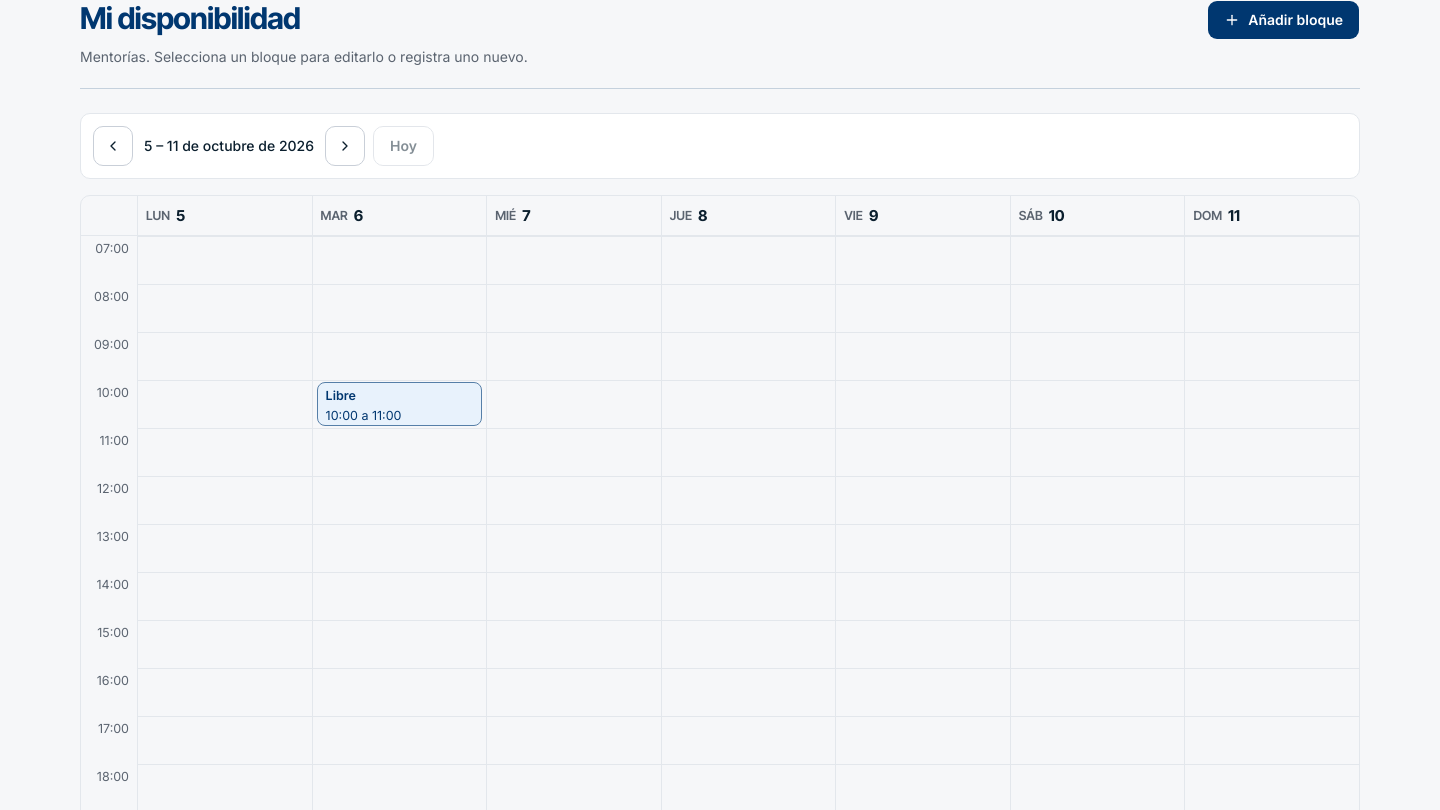
Test: MentorAvailabilityView › abre el panel de edición con la grilla al hacer clic en un bloque libre
What coordinates should you click on to do the following:
click the button with aria-label "libre, 10:00 a 11:00"
I would click on:
 (399, 404)
Its box is x1=317 y1=382 x2=482 y2=426.
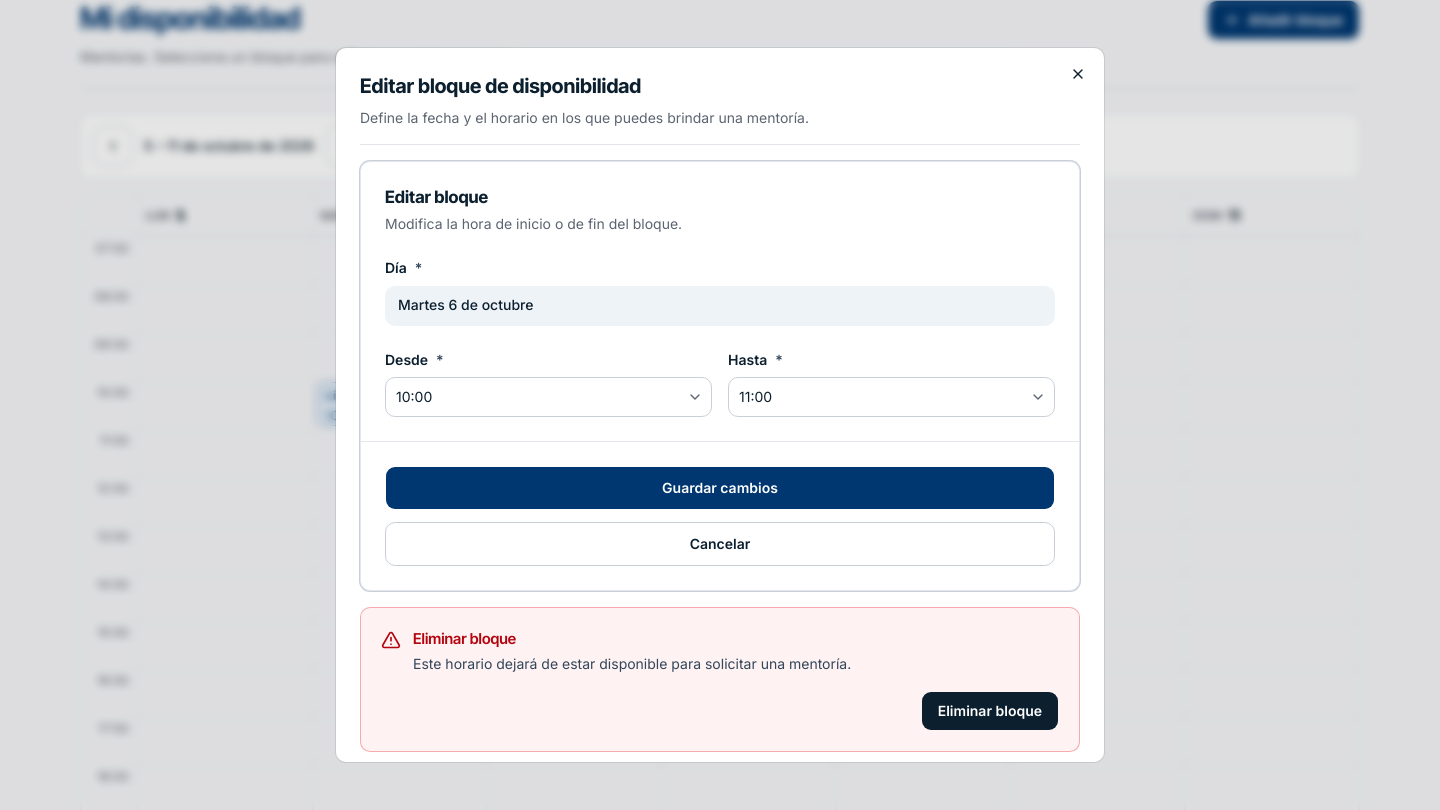
Expected: the text "Editar bloque" is shown, x1=385 y1=187 x2=488 y2=207
Expected: the button "Guardar cambios" is shown, x1=385 y1=466 x2=1055 y2=510
Expected: the button "Cancelar" is shown, x1=385 y1=522 x2=1055 y2=566
